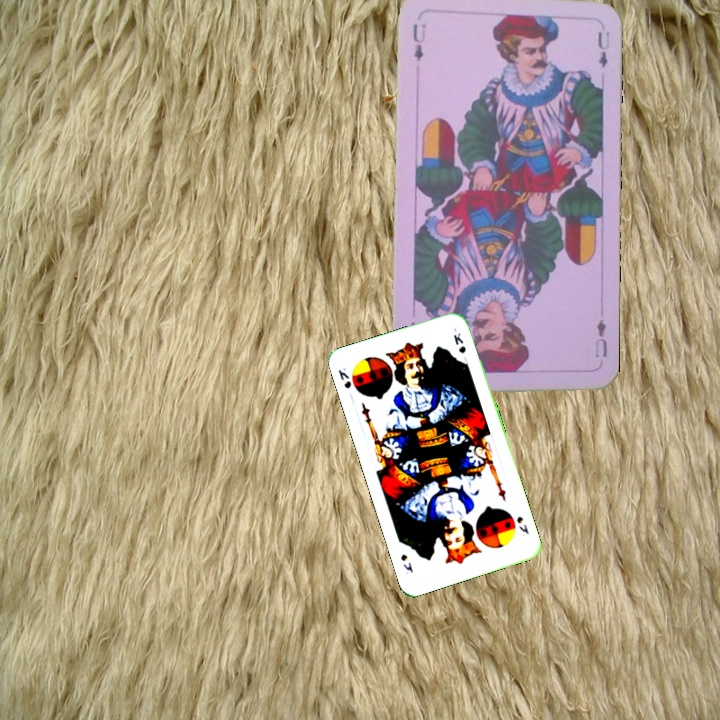EU: (591, 310, 610, 360), (408, 19, 428, 64)
SK: (334, 363, 354, 391), (513, 512, 531, 537)
